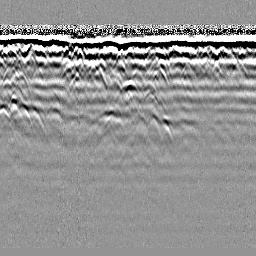cavity: (114, 77, 140, 100)
